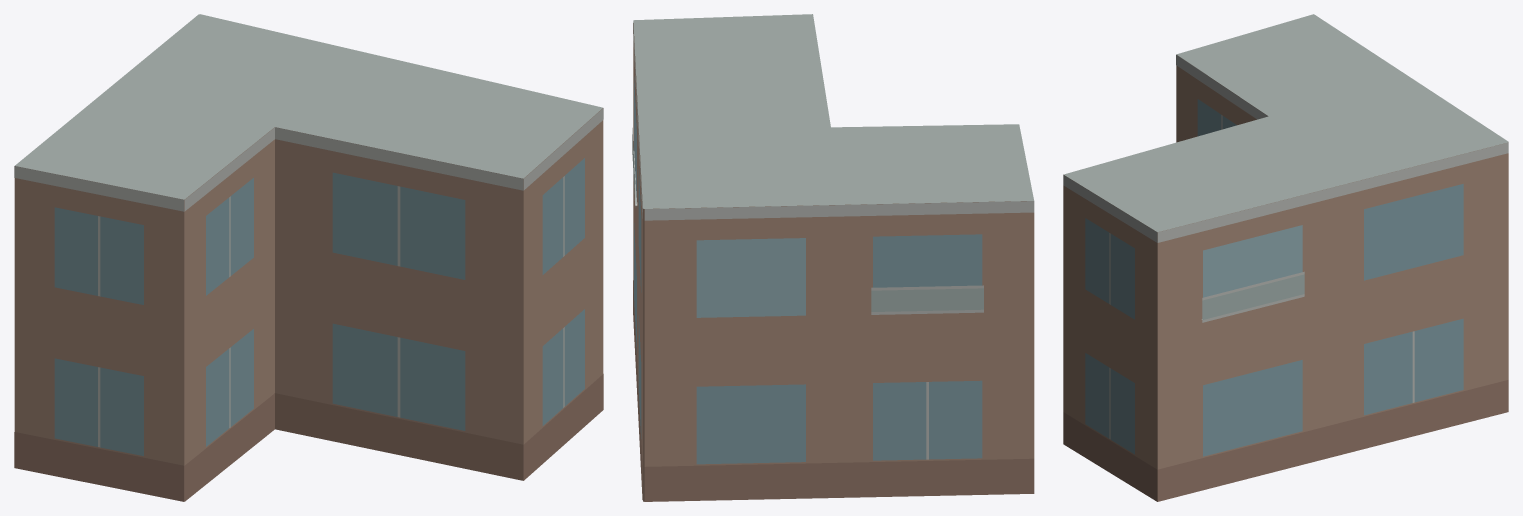
The model's file is survey-upis-32971717.glb.
3 views of the same model, side by side, from view 1: azimuth 30°, elevation 25°; view 2: azimuth 150°, elevation 25°; view 3: azimuth 270°, elevation 25° (orthographic). The views are drawn at different scales.
Visible parts, largest first — view 1: survey-upis-32971717.tmp; view 2: survey-upis-32971717.tmp; view 3: survey-upis-32971717.tmp.
Boxes of the visible parts, left/top/right/bottom form: survey-upis-32971717.tmp: left=14, top=14, right=603, bottom=501; survey-upis-32971717.tmp: left=632, top=14, right=1034, bottom=501; survey-upis-32971717.tmp: left=1063, top=14, right=1508, bottom=501.
Bounding box in the file's own units: 10.6 × 6.1 × 9.14.
